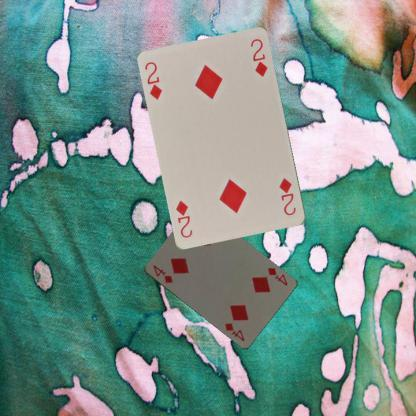2d: (276, 175, 298, 217), (143, 59, 164, 101)
4d: (150, 262, 175, 285), (265, 265, 288, 287)
